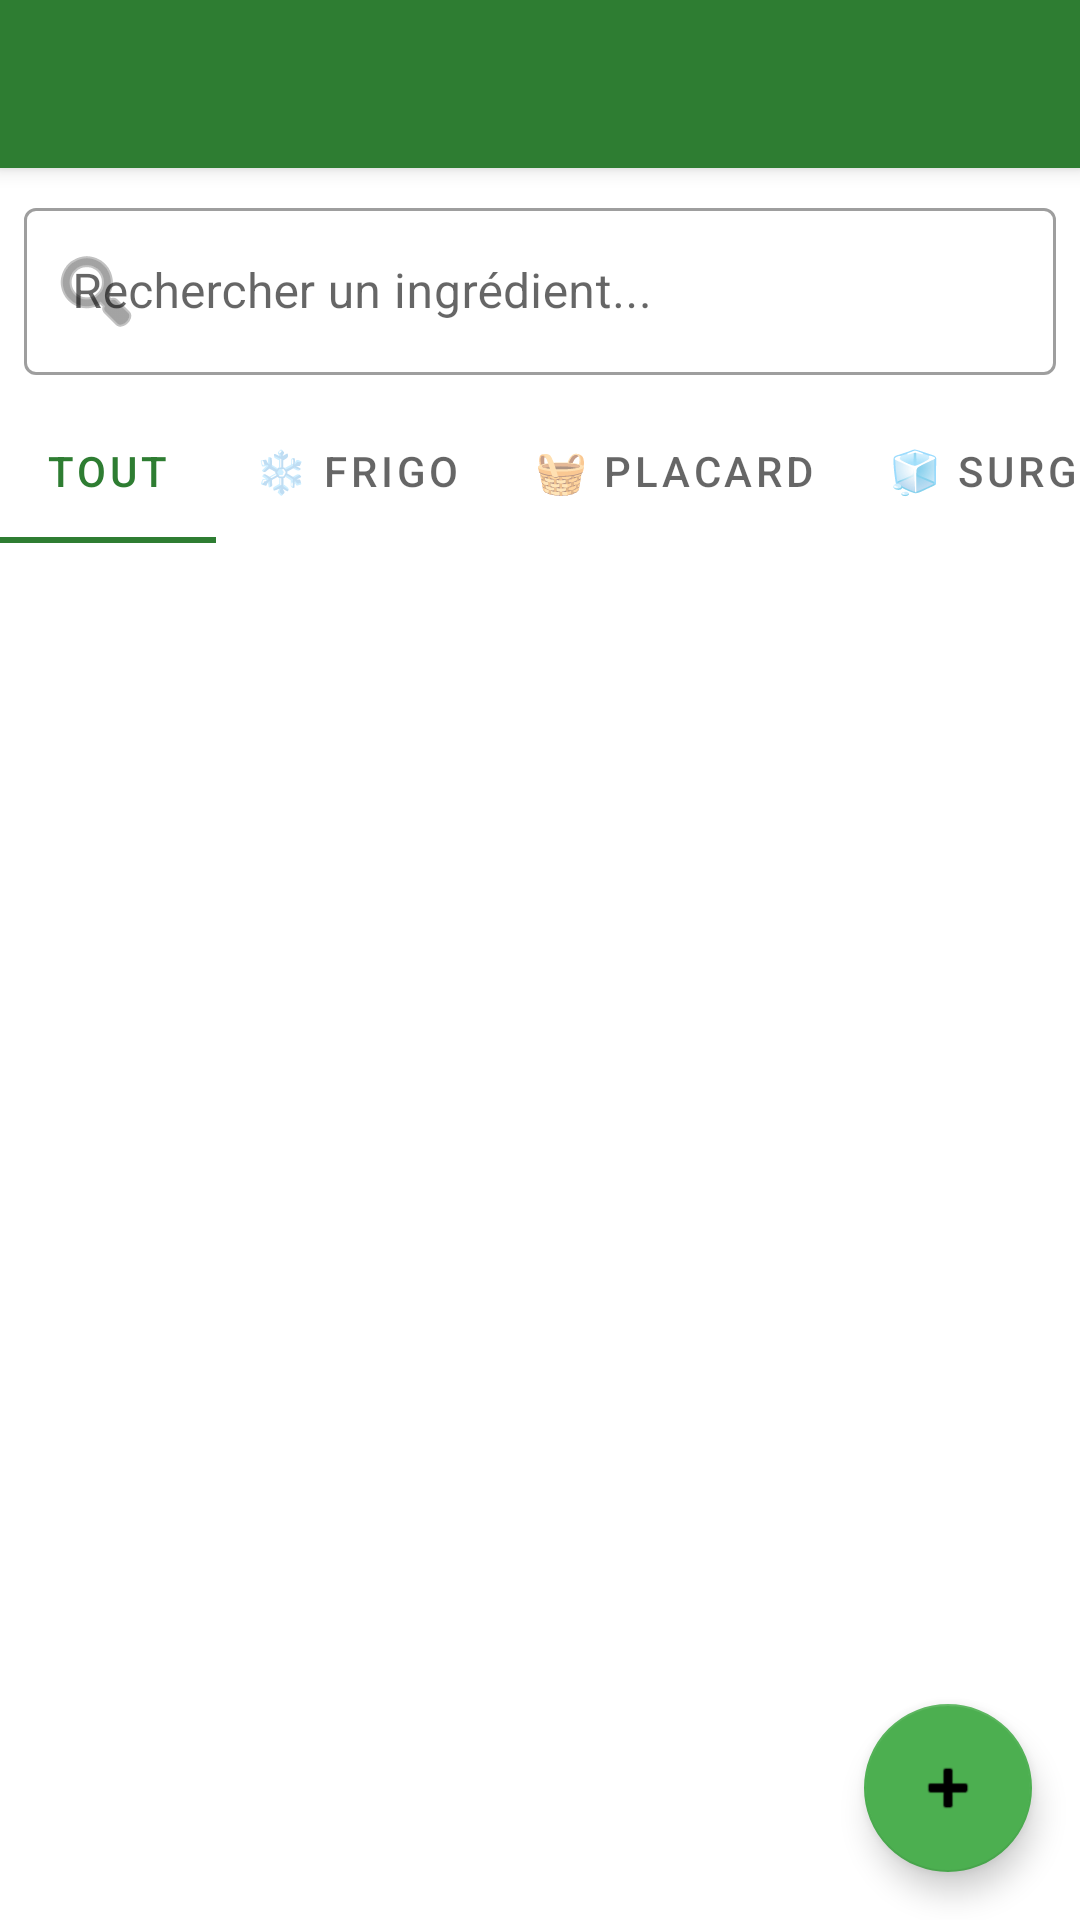

Where to tap for icons on this 1080×1920 app screen, as (x,y):
Ajouter un ingrédient: (948,1788)
